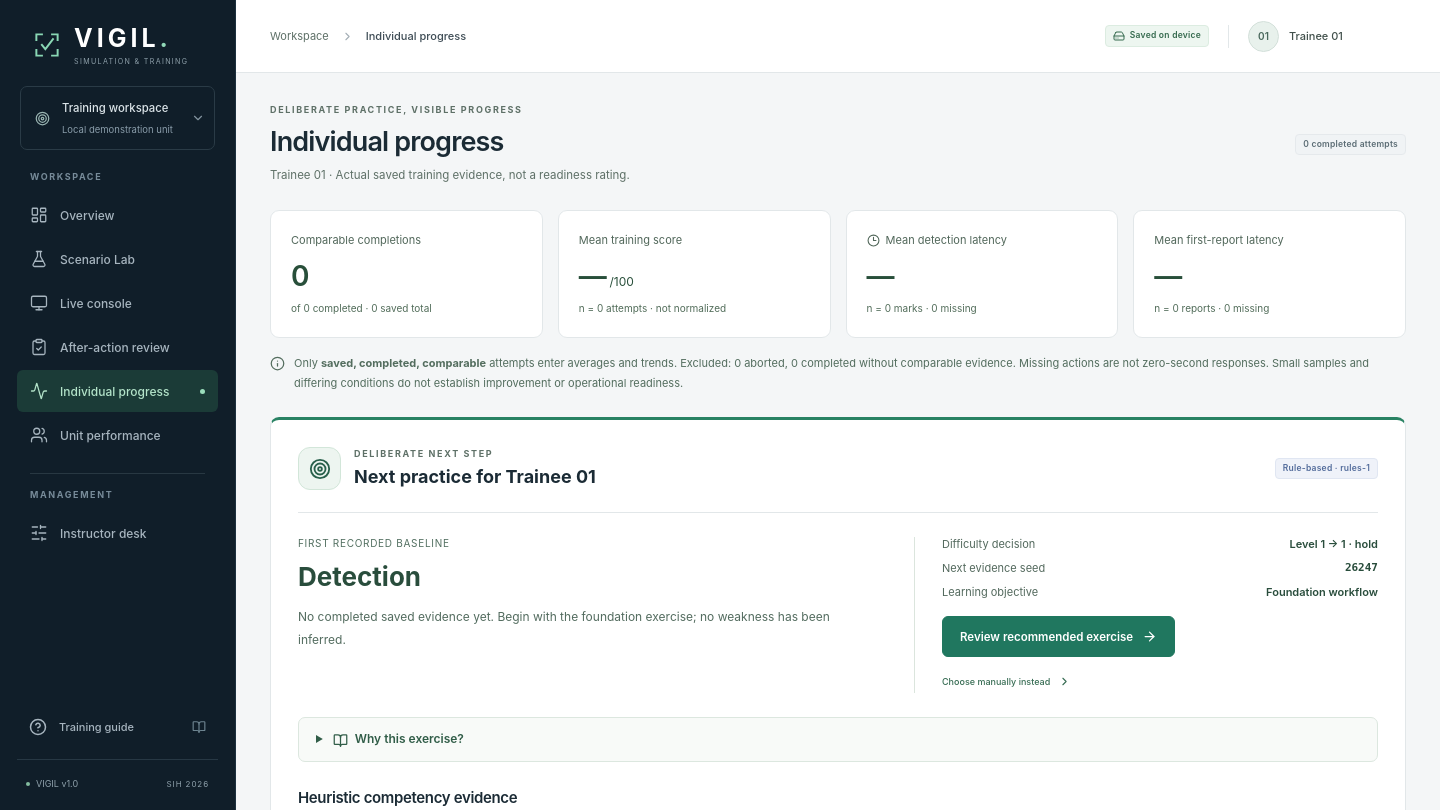
Test: Phase 1 navigation and foundation › switches synthetic profiles and reflects the active identity
Select "Trainee 02" in the dropdown named "Active trainee profile": (1347, 36) left=1288, top=20, right=1406, bottom=52
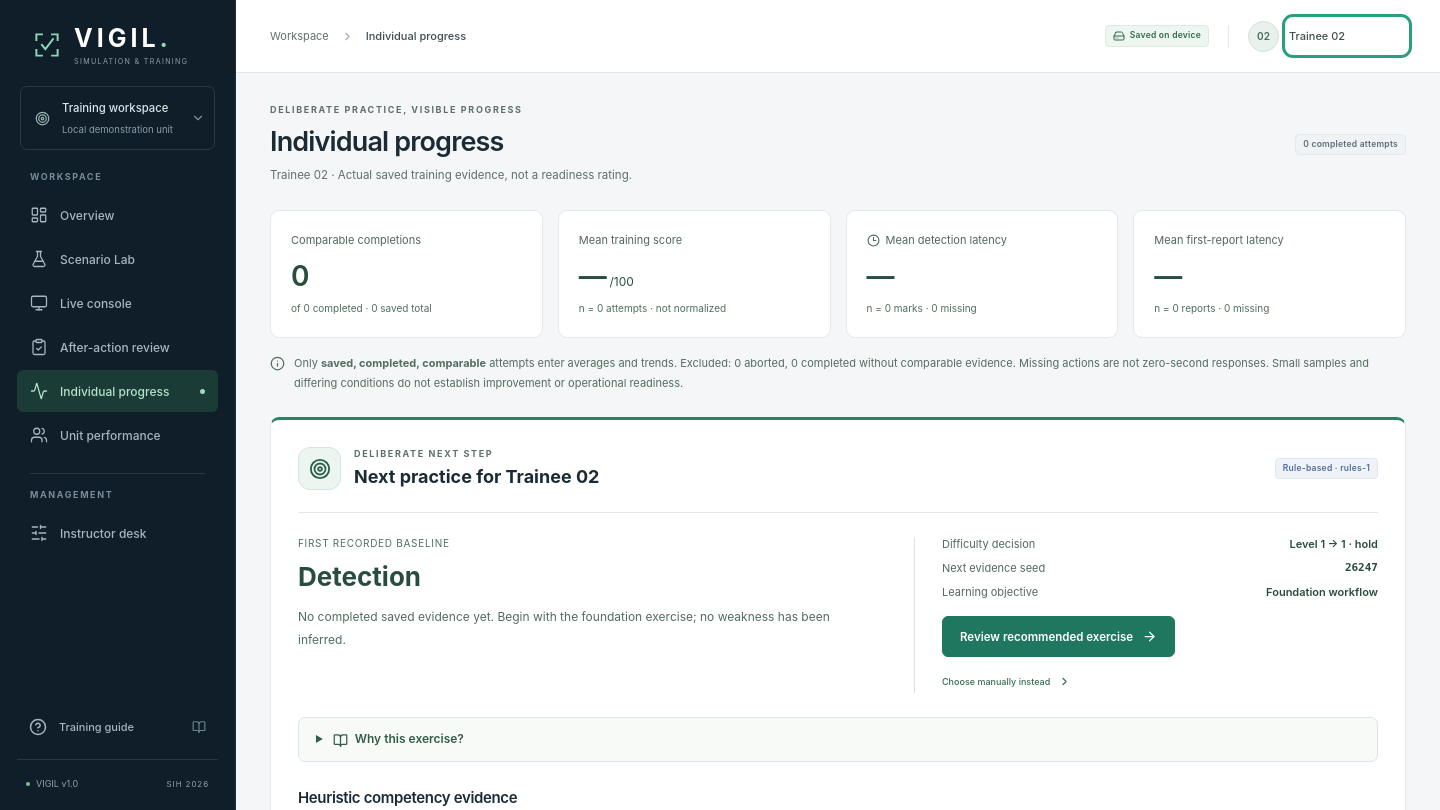
Expected: the text "Trainee 02 · Actual saved training evidence" is shown, left=270, top=168, right=632, bottom=182
